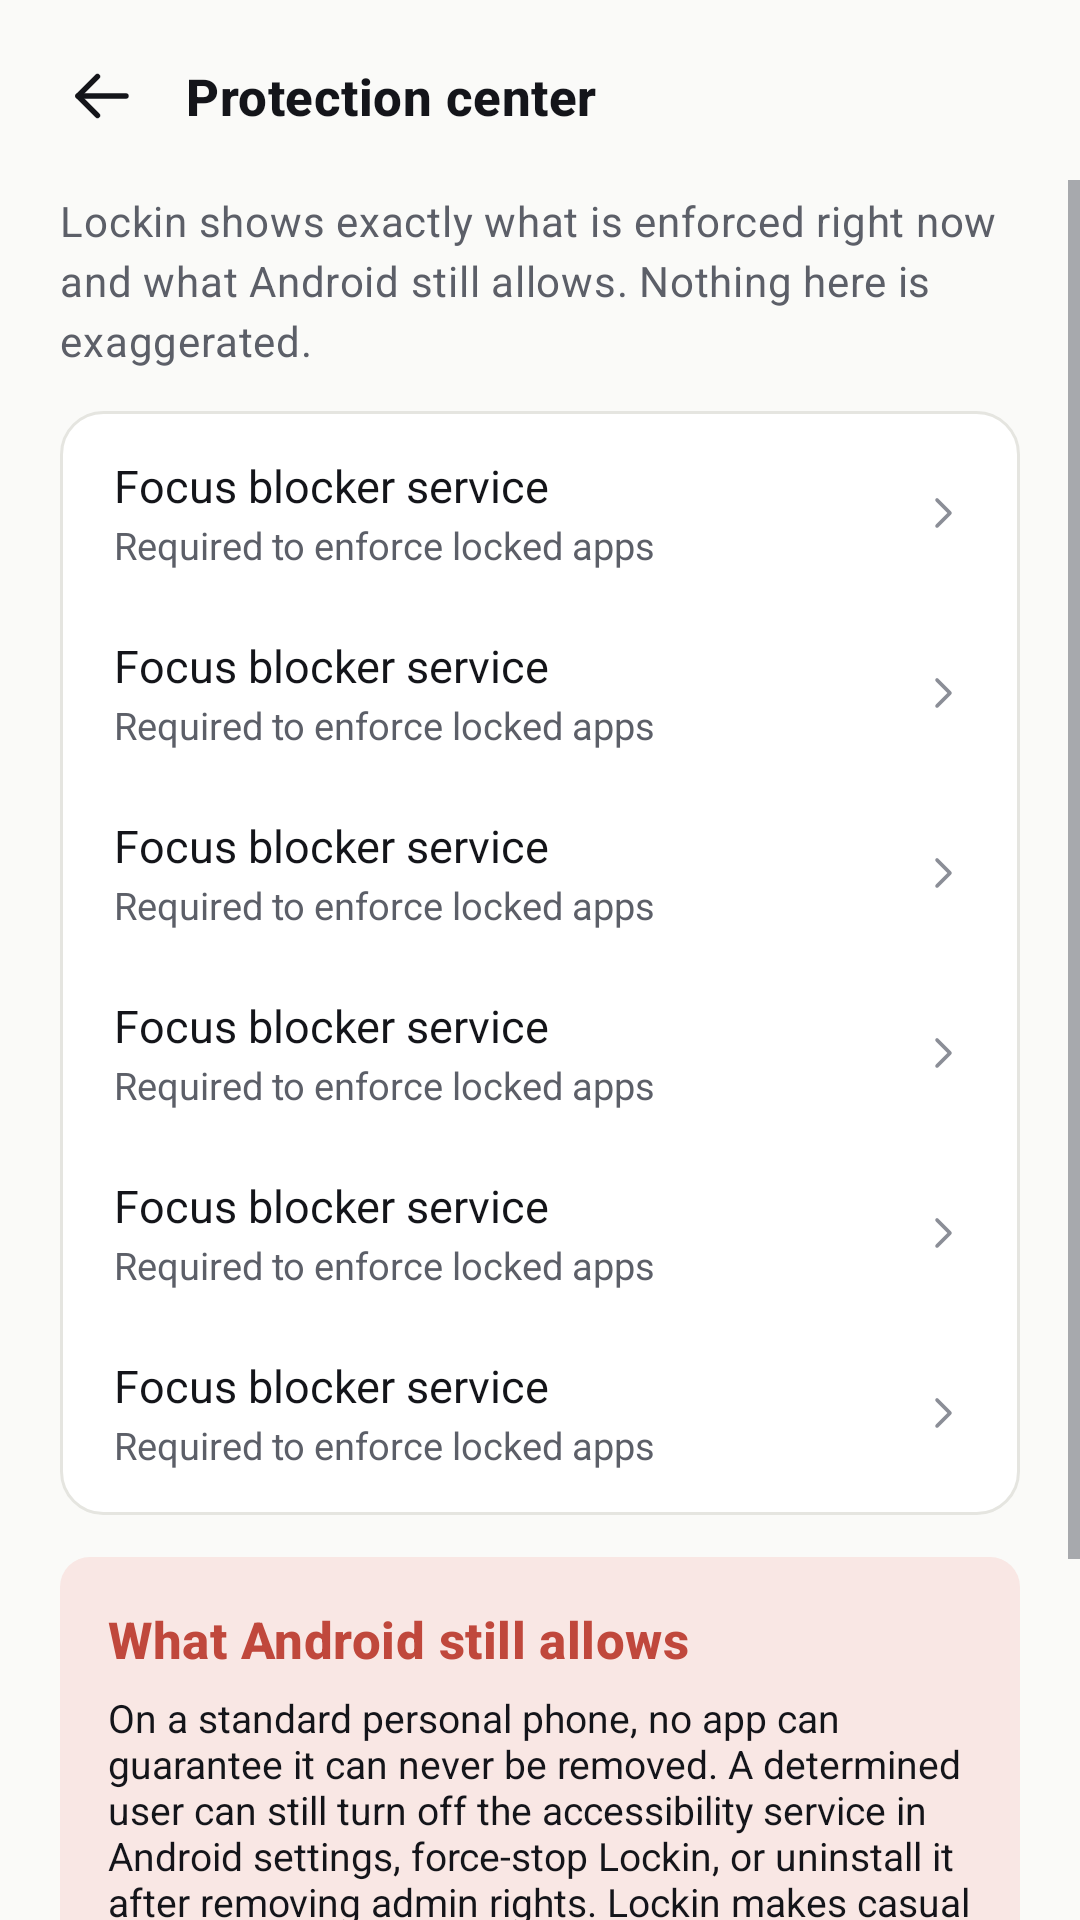

Locate icon controls on the screen. Image size 1080×1920, boxes as [x1, y1, x2, y2].
Back: [75, 73, 129, 119]
chevron right: [935, 498, 952, 528], [935, 678, 952, 708], [935, 858, 952, 888], [935, 1038, 952, 1068], [935, 1218, 952, 1248], [935, 1398, 952, 1428]
